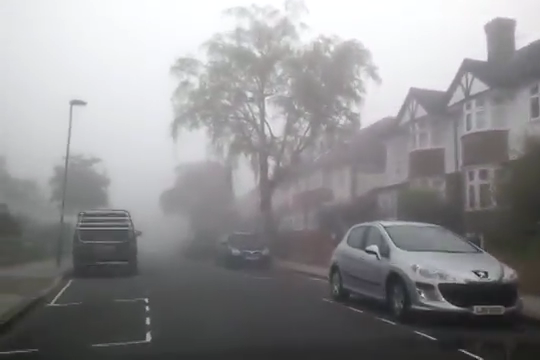car: (326, 218, 525, 327), (70, 209, 141, 279), (214, 229, 272, 271)
